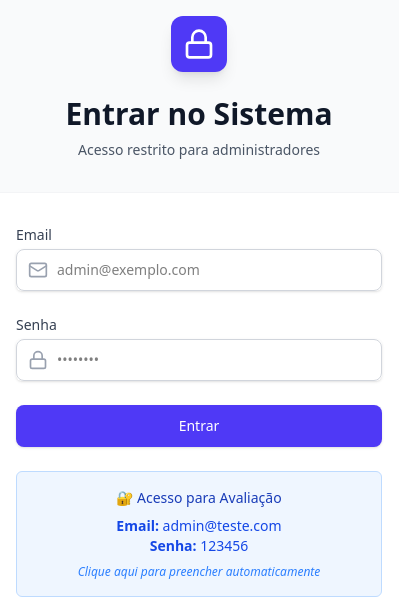
Login Page › fills form automatically when clicking hint card
Click the text "Clique aqui para preencher automaticamente" at point(199, 572), box 78,563 -> 320,580
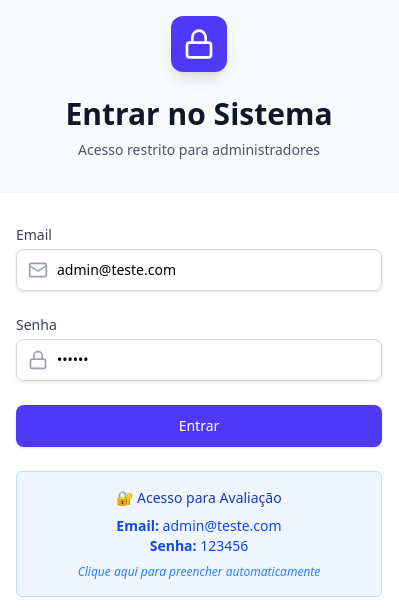
expect the field labelled "Email" holds "admin@teste.com": met, box 16,249 -> 382,291
expect the password field labelled "Senha" holds "123456": met, box 16,339 -> 382,381
